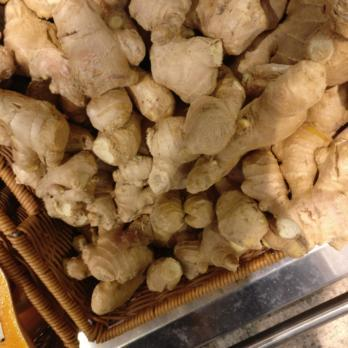Ginger: (1, 0, 348, 312)
